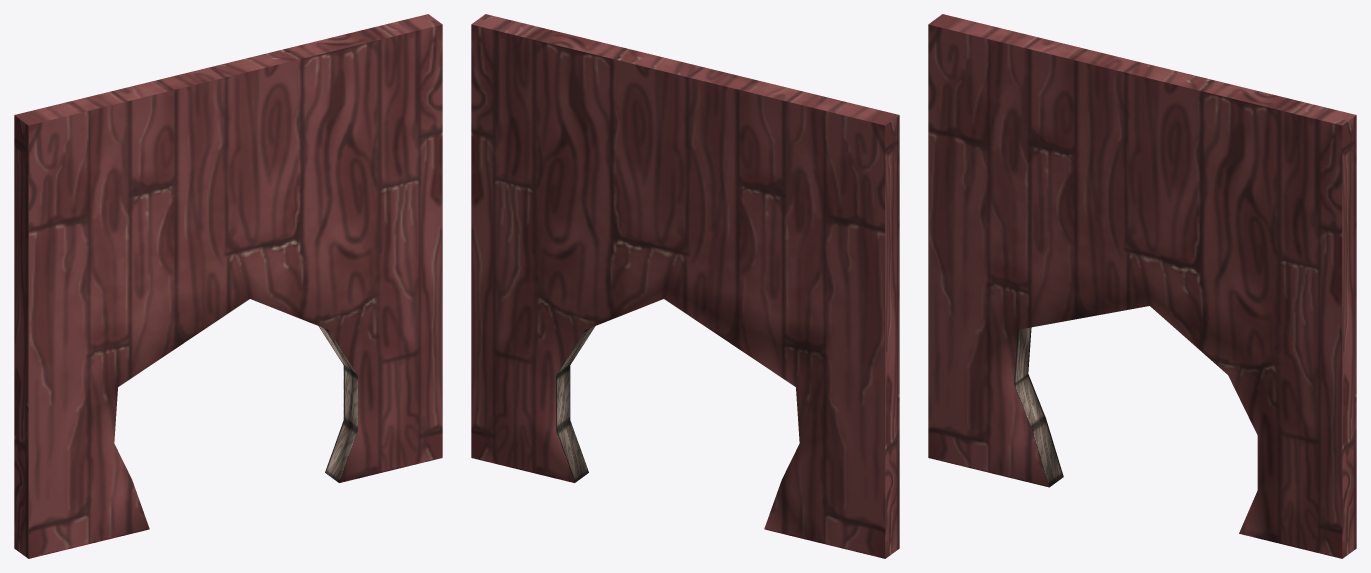
File: barn_hole.fbx
3 renders of one model, left to right at view 1: azimuth 30°, elevation 25°; view 2: azimuth 150°, elevation 25°; view 3: azimuth 330°, elevation 25°, orthographic.
Parts seen in each view (by area): view 1: barn_wallHole; view 2: barn_wallHole; view 3: barn_wallHole.
Boxes of the visible parts, bbox=[...] form: barn_wallHole: bbox=[14, 14, 442, 558]; barn_wallHole: bbox=[471, 14, 899, 558]; barn_wallHole: bbox=[928, 14, 1356, 558].
Size of the model in its own units: 5 by 5 by 0.3.
